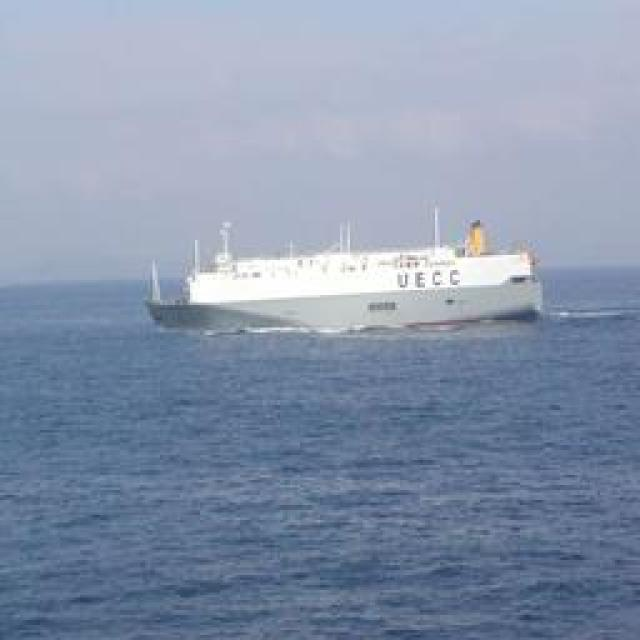CIV_Ship: (144, 218, 552, 334)
